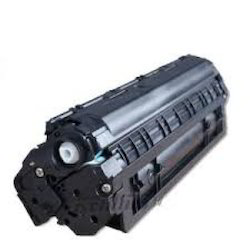Nonrec_Other: (11, 40, 238, 233)
